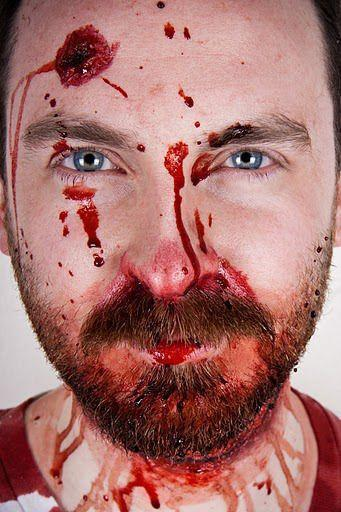Fire: (14, 241, 331, 512), (6, 24, 119, 252), (28, 190, 88, 308), (164, 142, 200, 280), (120, 240, 200, 298), (62, 185, 101, 248), (102, 78, 128, 98), (51, 139, 71, 162), (197, 209, 207, 254), (178, 84, 193, 107), (93, 250, 104, 268), (165, 22, 175, 38), (135, 60, 146, 70), (184, 26, 191, 38), (49, 98, 56, 106), (157, 1, 165, 8), (44, 93, 50, 100)
